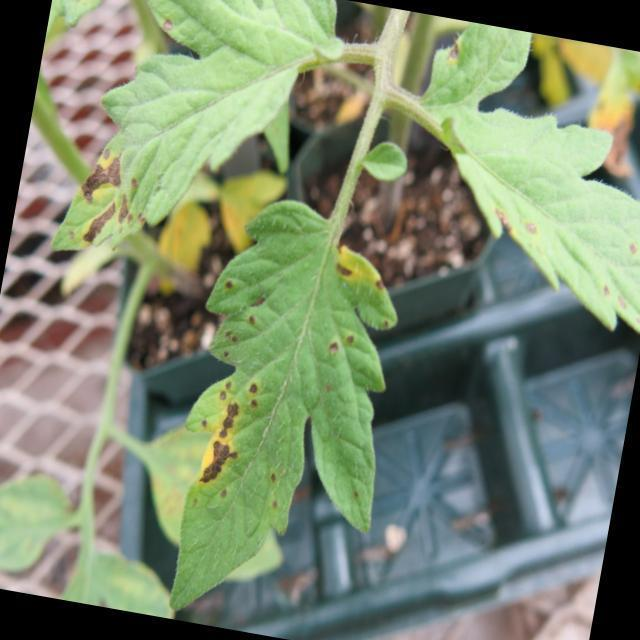Bacterial Spot: (178, 218, 390, 530), (472, 201, 640, 326), (47, 131, 162, 272), (130, 0, 197, 39), (438, 34, 473, 71)
